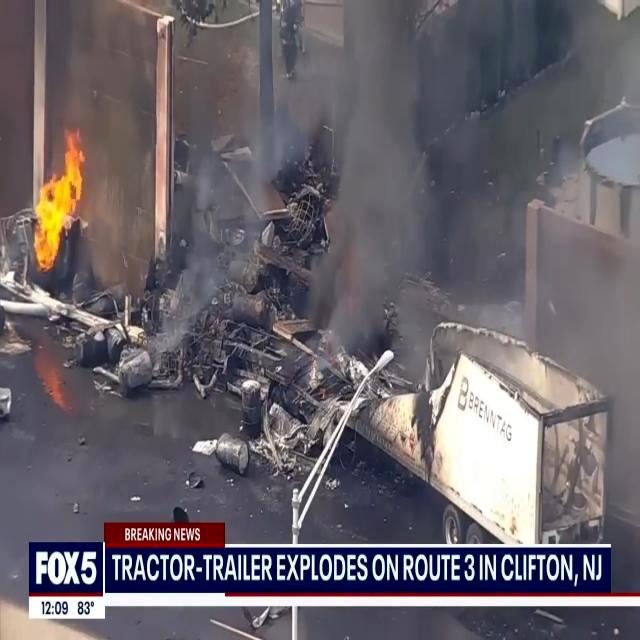fire: (28, 140, 90, 276)
